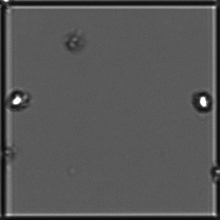Dead Cell: (63, 28, 86, 55)
Living Cell: (8, 84, 32, 110), (191, 87, 213, 115)
